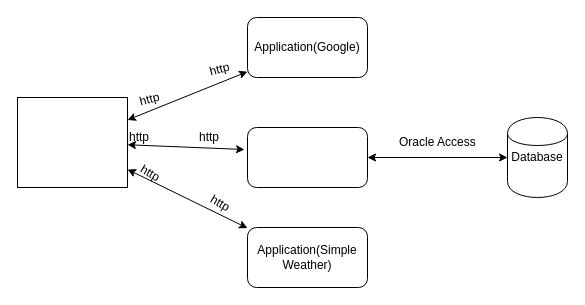
Some shapes in this 585 by 305 pixel diagram are drawn without their labels. Each missing label, with the centre of its shape:
Application(nrs): point 307,157
Client: point 72,142
